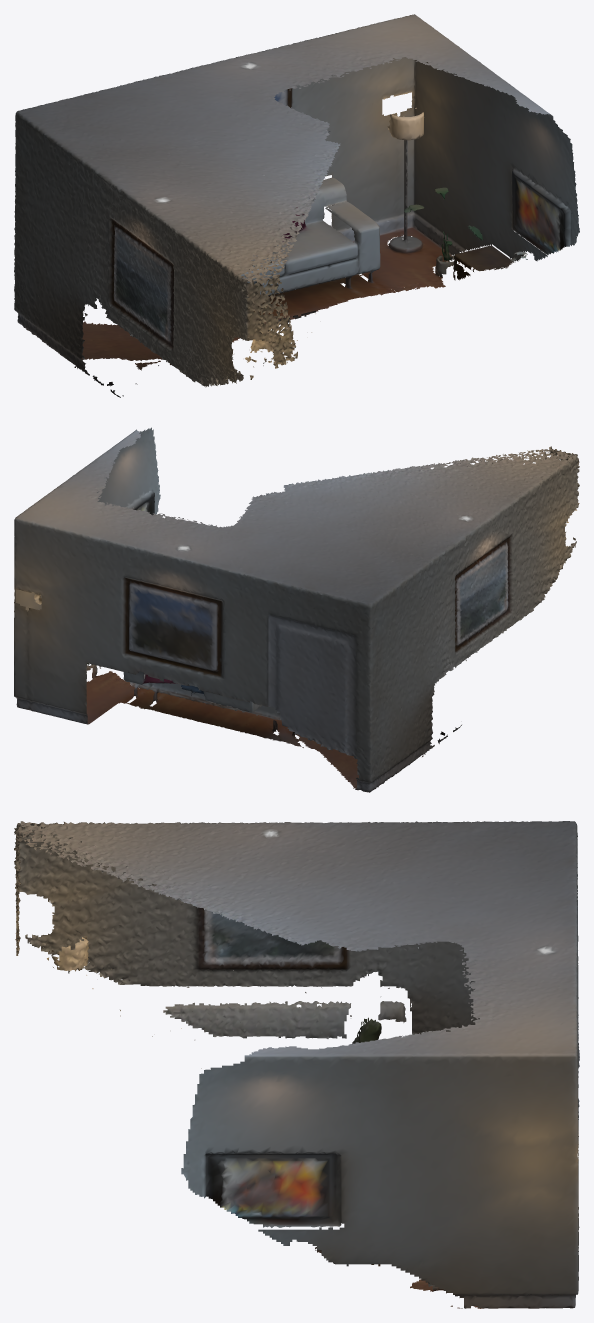
Rendered from tsdf_gt.glb.
3 renders of one model, top to bottom at view 1: azimuth 30°, elevation 25°; view 2: azimuth 150°, elevation 25°; view 3: azimuth 270°, elevation 25°, orthographic. The views are drawn at different scales.
Size of the model in its own units: 4.95 by 2.52 by 5.
